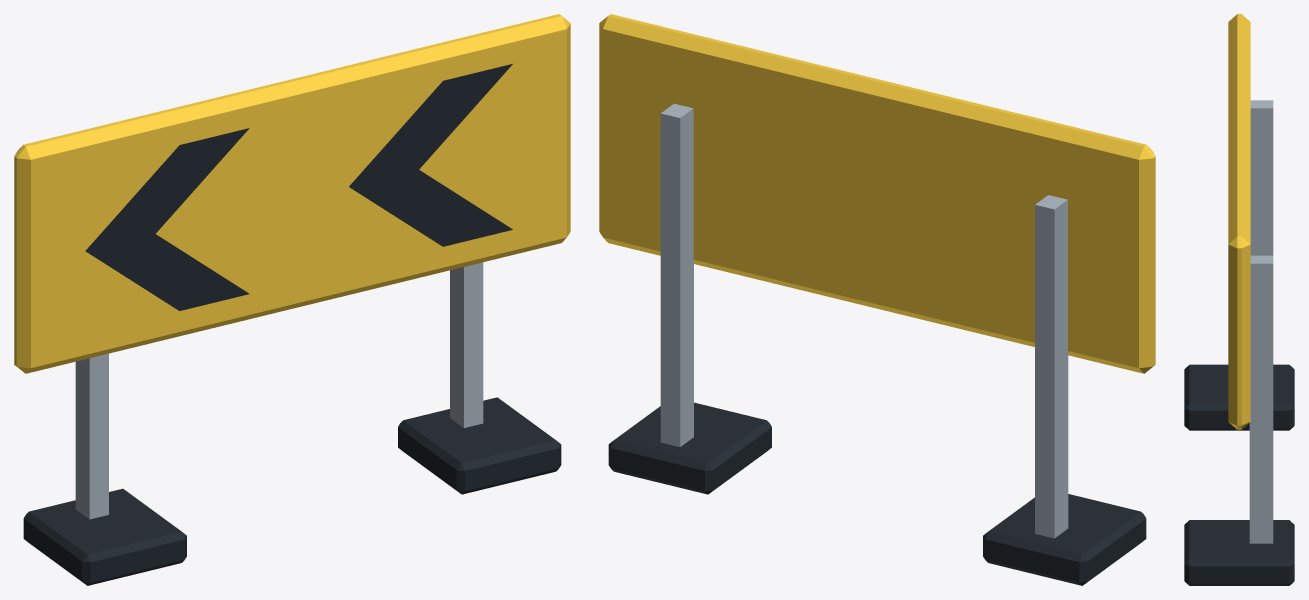
Rendered from chevron_board_left.glb.
3 views of the same model, side by side, from view 1: azimuth 30°, elevation 25°; view 2: azimuth 150°, elevation 25°; view 3: azimuth 270°, elevation 25° (orthographic). The views are drawn at different scales.
Parts seen in each view (by area): view 1: chevron_board_left__static; view 2: chevron_board_left__static; view 3: chevron_board_left__static.
Boxes of the visible parts, <box> form: chevron_board_left__static: <box>14,14,570,585</box>; chevron_board_left__static: <box>599,14,1155,585</box>; chevron_board_left__static: <box>1184,14,1294,585</box>.
Bounding box in the file's own units: 3.7 × 2.72 × 0.75.
